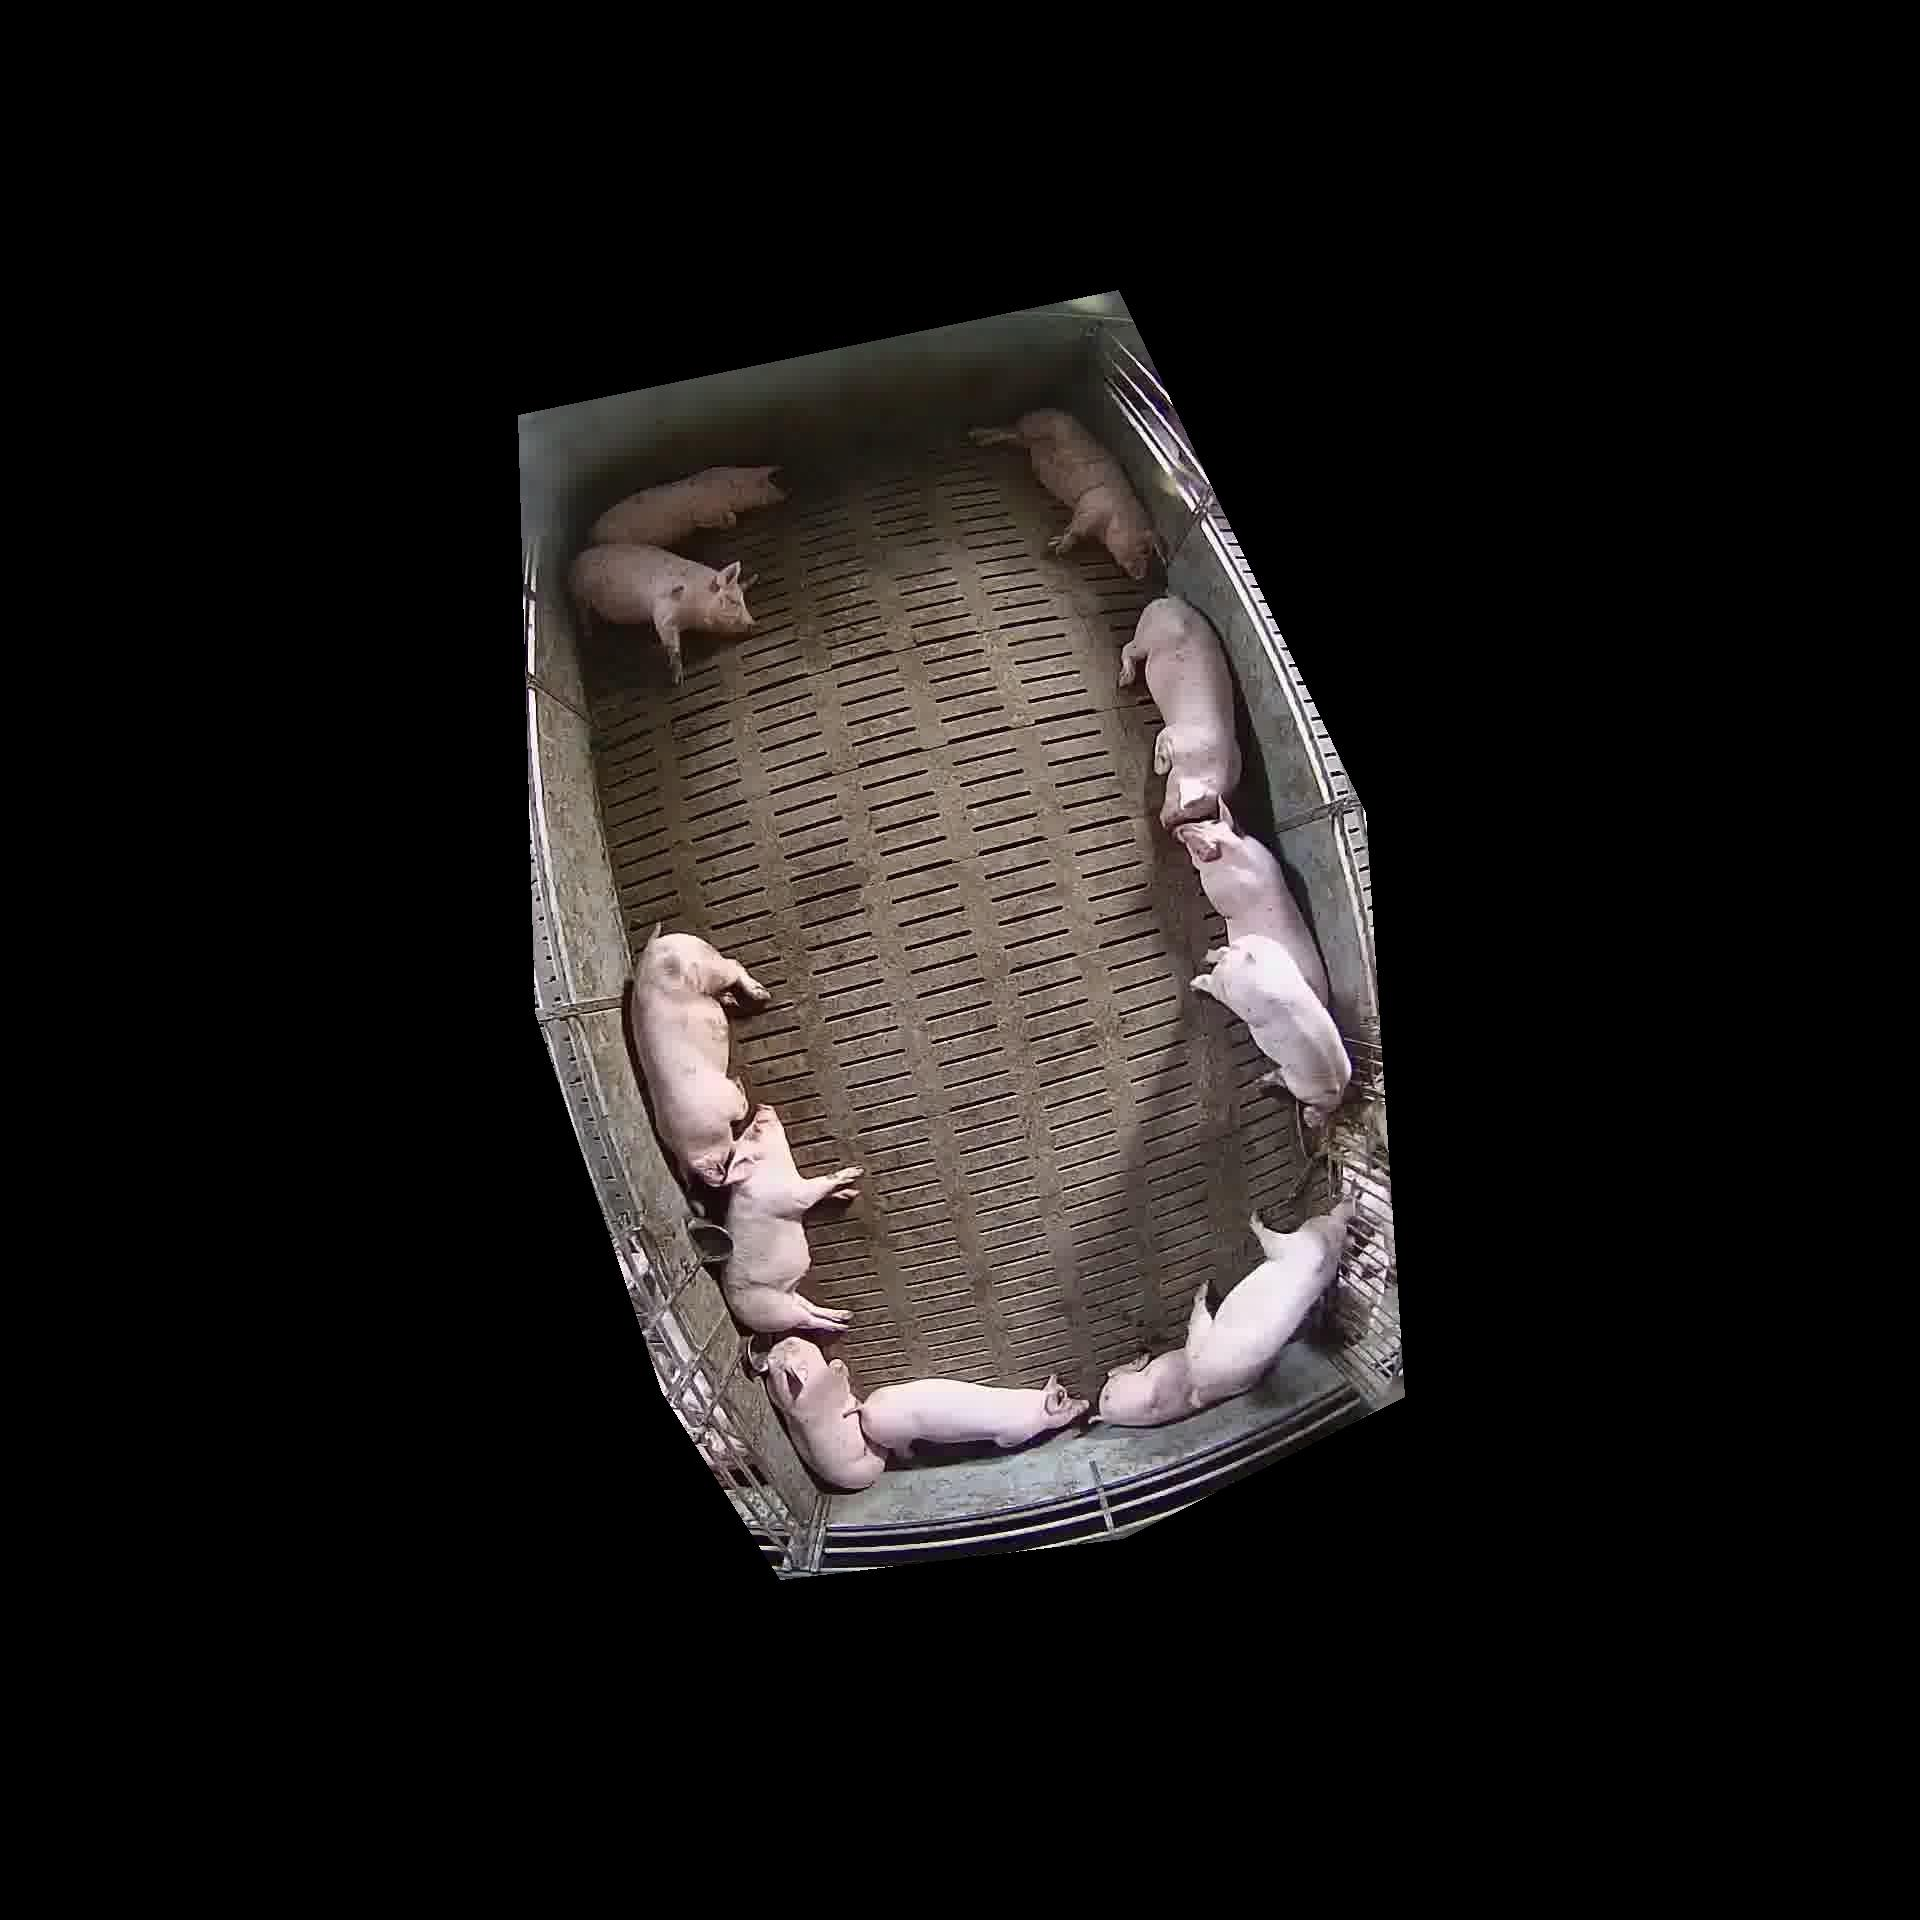pig: (765, 1336, 1088, 1489), (1185, 1196, 1363, 1405), (629, 928, 768, 1187), (723, 1104, 862, 1333), (971, 410, 1155, 578), (1175, 805, 1327, 1004), (1192, 934, 1350, 1125), (1120, 596, 1241, 828), (570, 543, 753, 682), (862, 1377, 1088, 1458), (765, 1336, 884, 1489), (591, 466, 784, 547), (1099, 1349, 1192, 1424)
